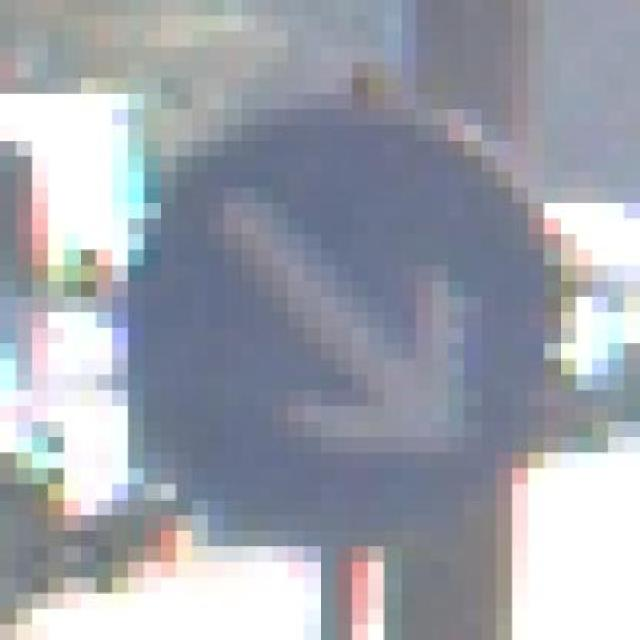Keep-Right: (80, 62, 592, 532)
